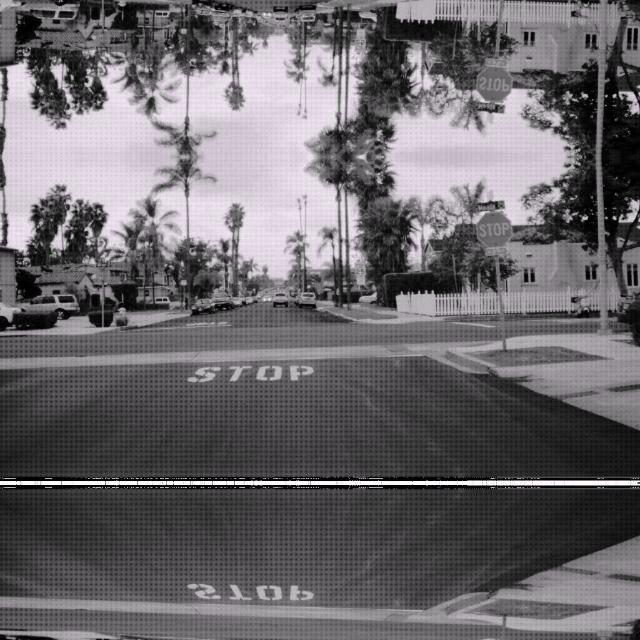stop: (476, 210, 512, 247), (476, 66, 512, 102)
